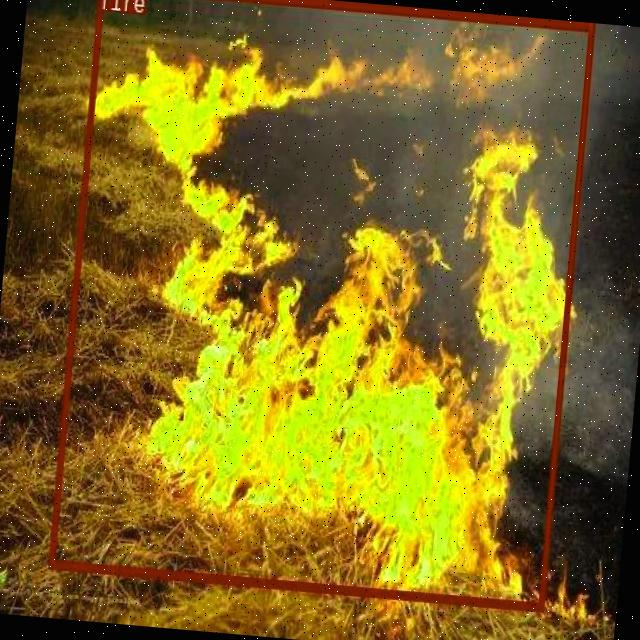fire: (46, 0, 593, 610)
